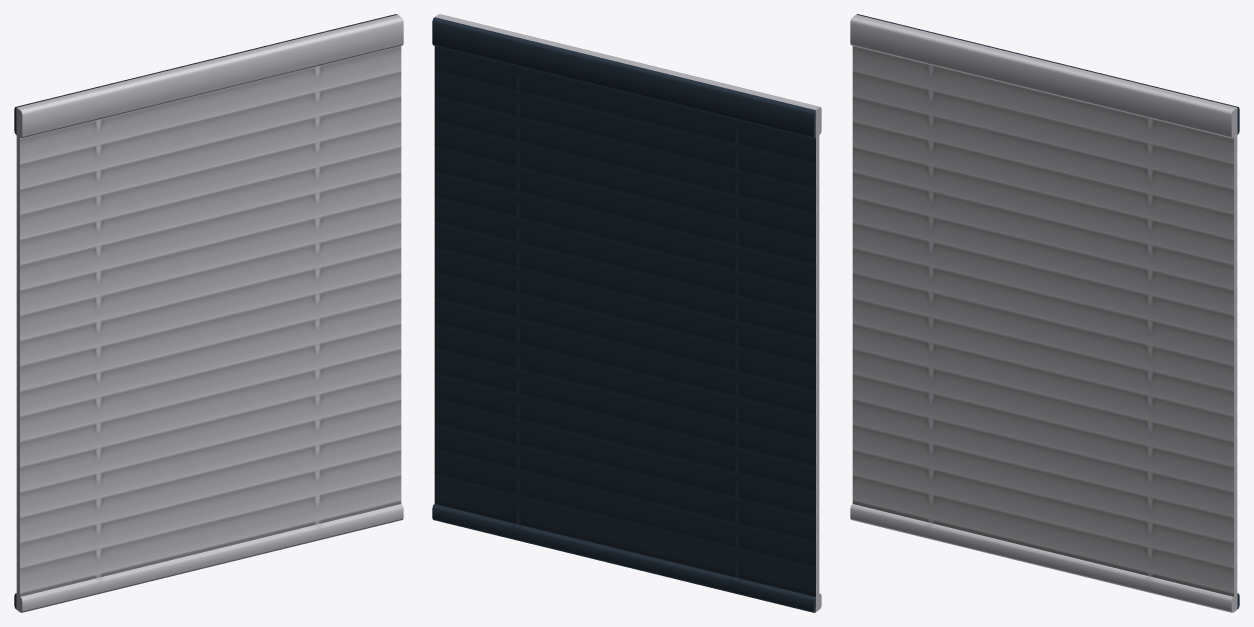
Rendered from PropBlinds01Door02_1.FBX.
3 renders of one model, left to right at view 1: azimuth 30°, elevation 25°; view 2: azimuth 150°, elevation 25°; view 3: azimuth 330°, elevation 25°, orthographic.
Visible parts, largest first — view 1: PropBlinds01Door02_1; view 2: PropBlinds01Door02_1; view 3: PropBlinds01Door02_1.
Boxes of the visible parts, bbox=[...] form: PropBlinds01Door02_1: bbox=[14, 14, 403, 612]; PropBlinds01Door02_1: bbox=[432, 14, 821, 612]; PropBlinds01Door02_1: bbox=[850, 14, 1239, 612].
Size of what is drawn, in the model's own units: 1.11 by 1.4 by 0.04.
